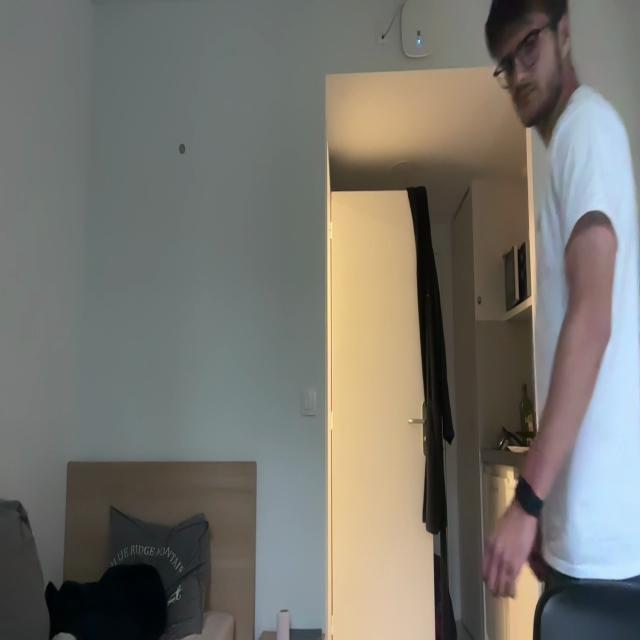elbow: (569, 303, 613, 359)
hand: (484, 499, 537, 596)
shoulder: (558, 102, 622, 211)
